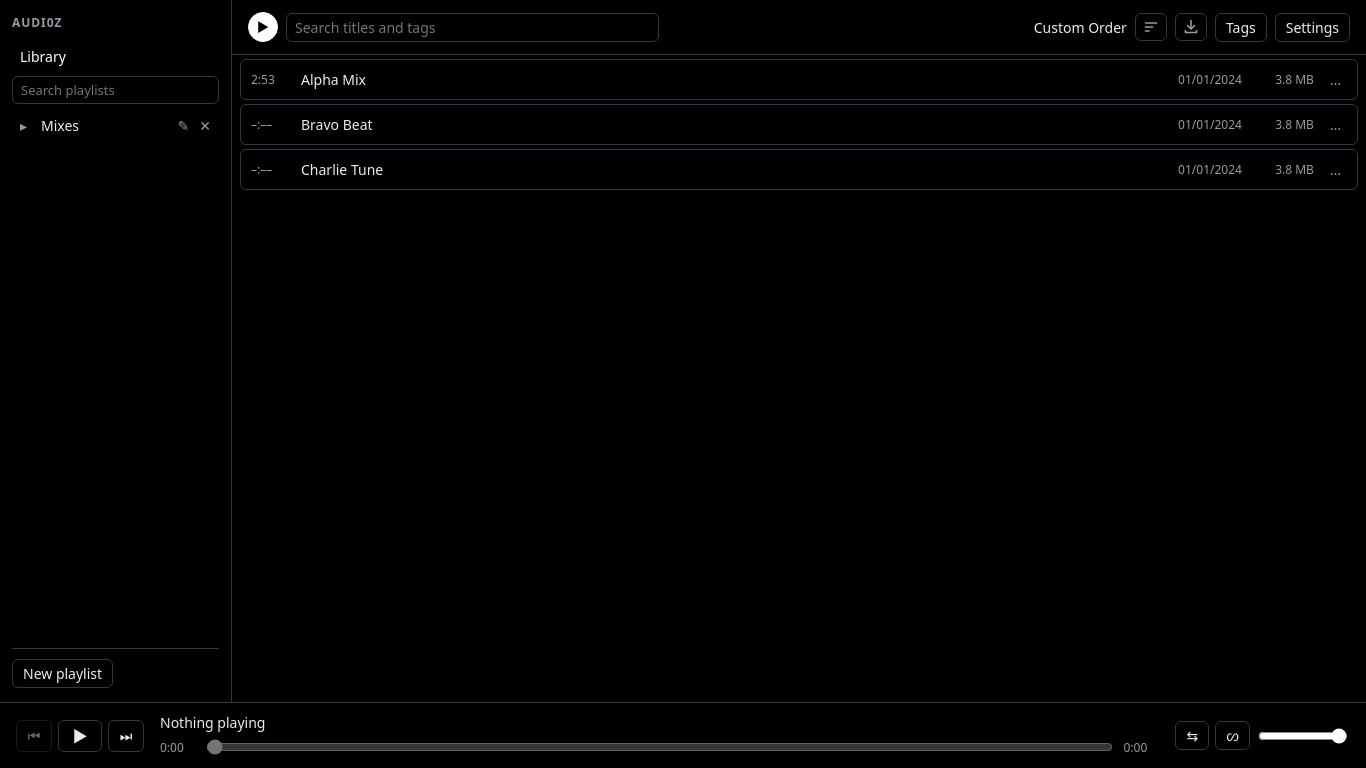
Scenario: AddToPlaylistDialog › says so when every song is already in the playlist
What coordinates should you click on to do the following:
click the button "Mixes"
I would click on:
 (102, 126)
Its box is x1=33 y1=112 x2=172 y2=139.
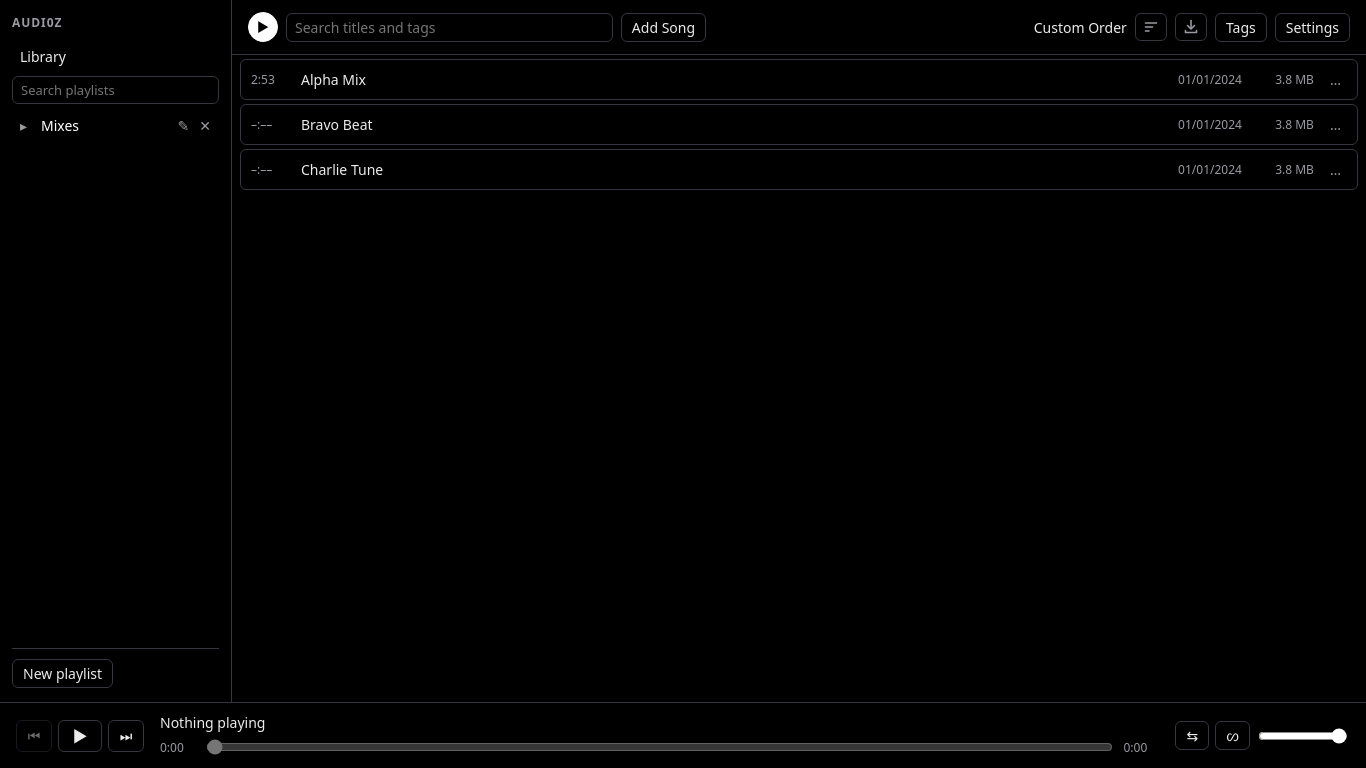
What coordinates should you click on to do the following:
click the button with aria-label "Add songs to Mixes"
I would click on:
 (663, 27)
Its box is x1=621 y1=12 x2=706 y2=42.
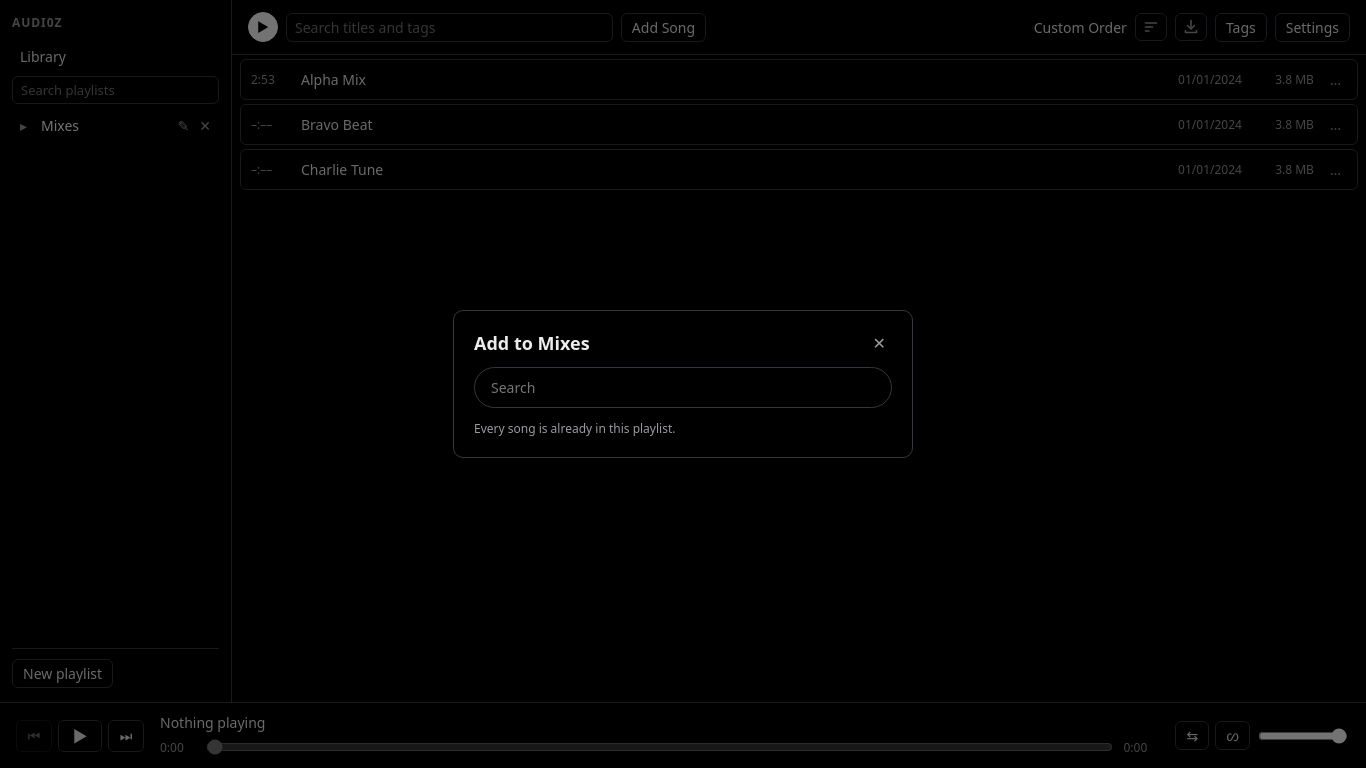
expect the text "Every song is already in this playlist." is shown: met, box x1=474 y1=420 x2=676 y2=437
